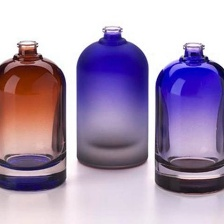bottle: (0, 31, 71, 199), (72, 21, 152, 170), (152, 33, 224, 197)
